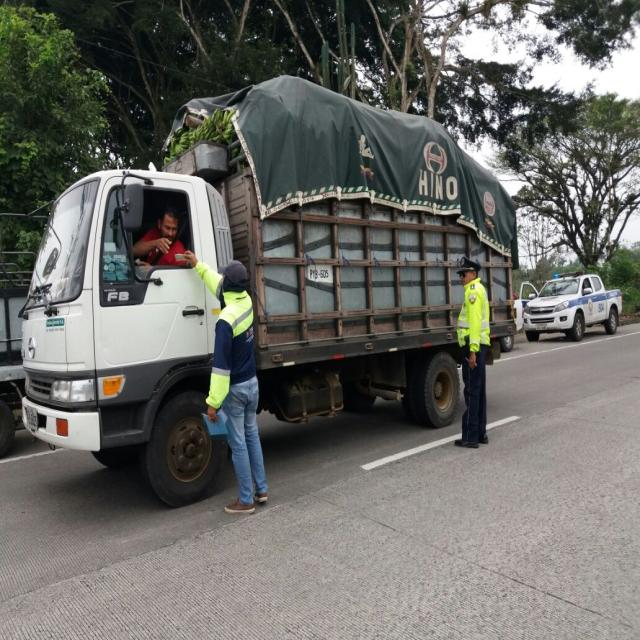CMT: (526, 272, 626, 341)
TRUCK: (24, 69, 518, 472)
